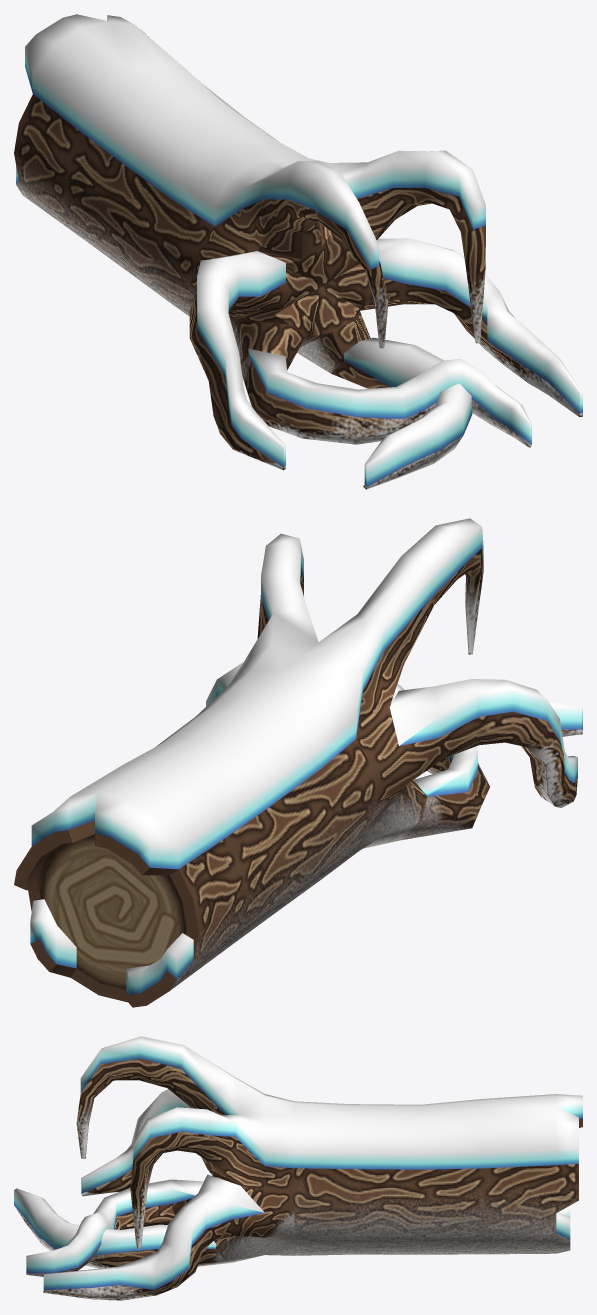
The model's file is Log_02.fbx.
The picture shows the model from 3 angles, top to bottom: view 1: azimuth 30°, elevation 25°; view 2: azimuth 150°, elevation 25°; view 3: azimuth 270°, elevation 25°; orthographic projection. The views are drawn at different scales.
Visible parts, largest first — view 1: Log_02; view 2: Log_02; view 3: Log_02.
Part boxes in pixels (x1=…): Log_02: x1=14, y1=14, x2=582, y2=489; Log_02: x1=14, y1=518, x2=582, y2=1007; Log_02: x1=14, y1=1036, x2=582, y2=1300.
Bounding box in the file's own units: 126 × 98.03 × 254.
